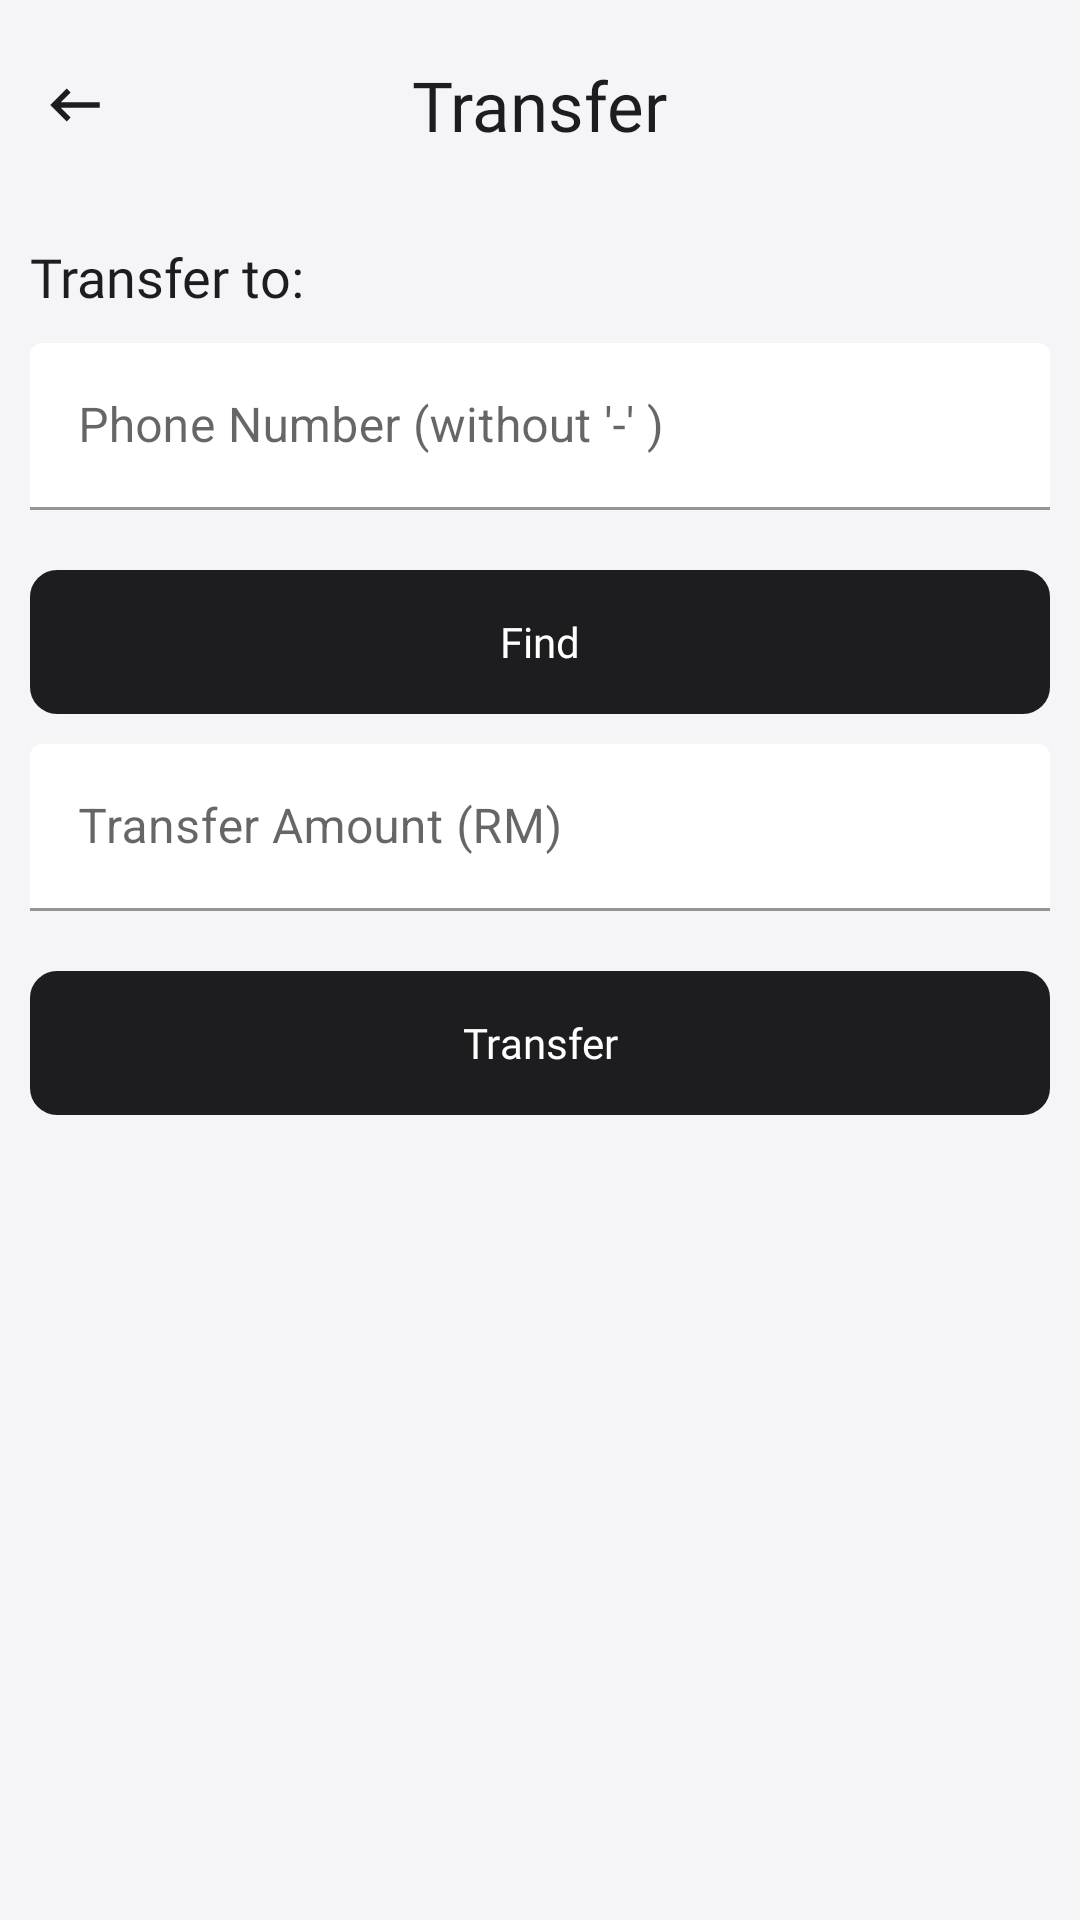

Icon click points for this 1080px×1920px phone screenshot, format (x=x, y=y):
keyboard backspace: (x=75, y=105)
